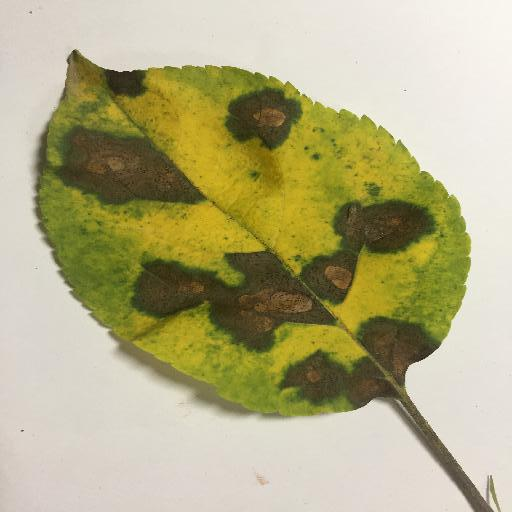Brown_Spot: (69, 136, 208, 209), (213, 245, 322, 334), (266, 357, 389, 399), (133, 259, 215, 307), (360, 316, 427, 374), (215, 99, 298, 143), (336, 211, 423, 247), (300, 263, 350, 302), (91, 70, 151, 98)
